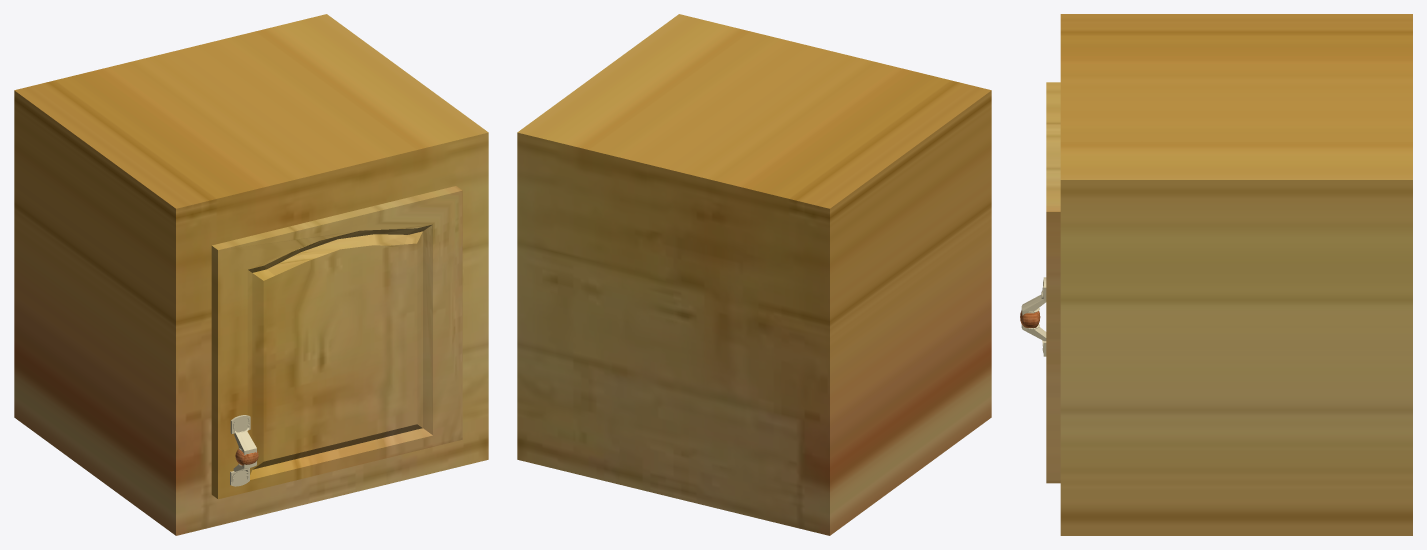
Rendered from sh-contrib-1-door-upper-cabinet.glb.
3 renders of one model, left to right at view 1: azimuth 30°, elevation 25°; view 2: azimuth 150°, elevation 25°; view 3: azimuth 270°, elevation 25°, orthographic. The views are drawn at different scales.
Visible parts, largest first — view 1: Curvedtopcabinet, Tube_1_6; view 2: Curvedtopcabinet; view 3: Curvedtopcabinet, Tube_1_6.
Boxes of the visible parts, x1,y1,x2,y2 form: Curvedtopcabinet: (14,14,488,535); Tube_1_6: (230,415,256,486); Curvedtopcabinet: (517,14,991,535); Curvedtopcabinet: (1046,14,1412,535); Tube_1_6: (1021,277,1046,356).
Size of the model in its own units: 1 by 1 by 1.
3 materials, 2 textured.
